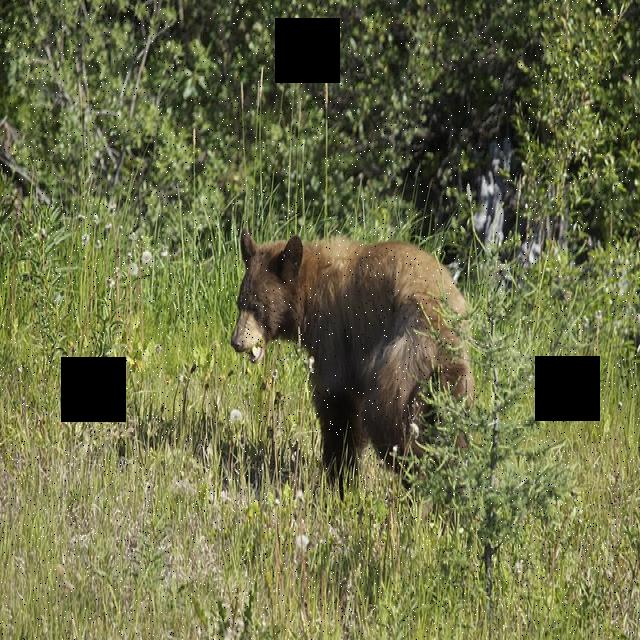Bear: (227, 217, 478, 468)
